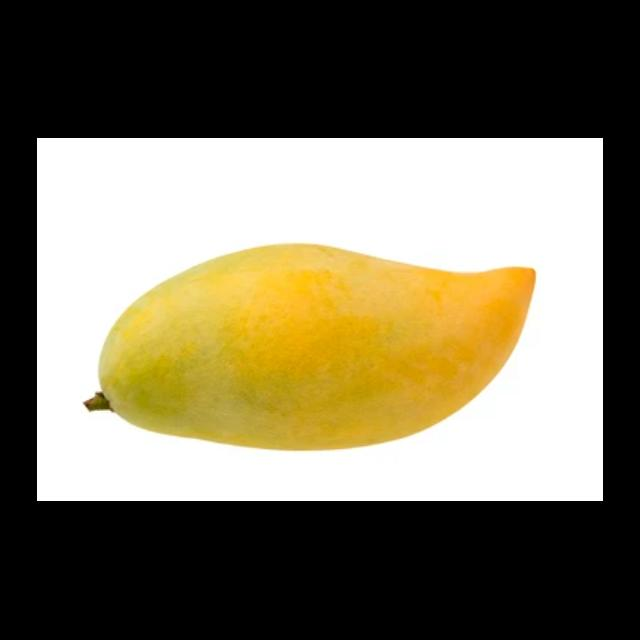mango: (101, 239, 537, 451)
